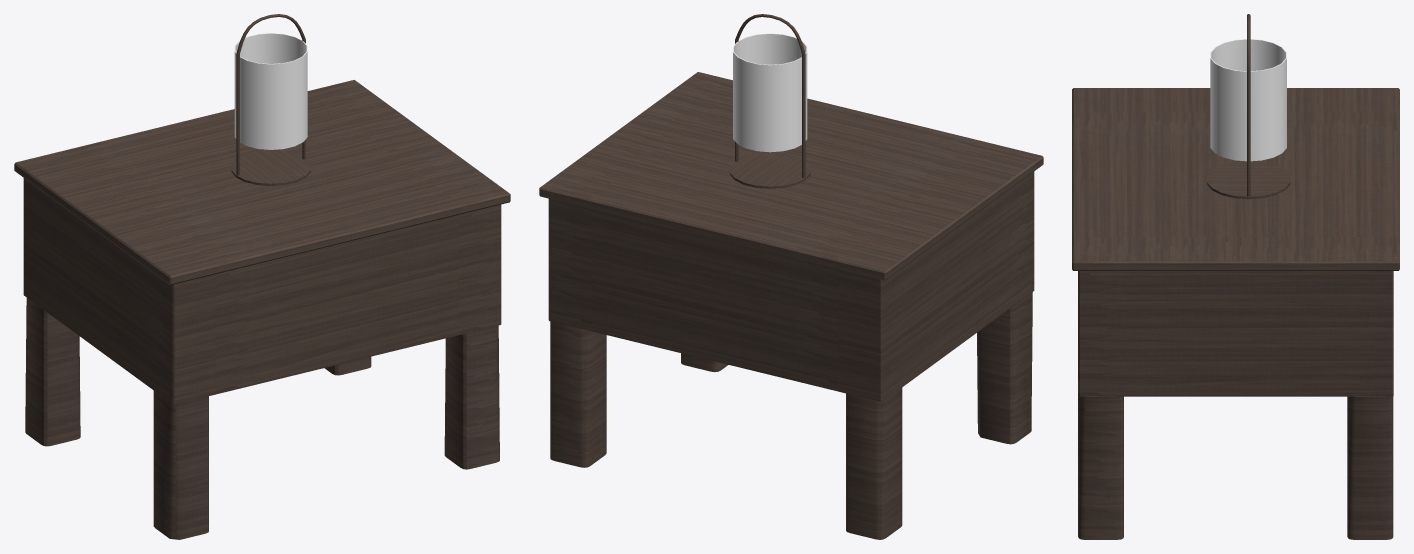
Rendered from Bedside table.FBX.
3 views of the same model, side by side, from view 1: azimuth 30°, elevation 25°; view 2: azimuth 150°, elevation 25°; view 3: azimuth 270°, elevation 25° (orthographic). The views are drawn at different scales.
Parts seen in each view (by area): view 1: 床头柜, 灯罩, 灯架; view 2: 床头柜, 灯罩, 灯架; view 3: 床头柜, 灯罩, 灯架.
Boxes of the visible parts, box(x1,y1,x2,y2) form: 床头柜: box(14, 80, 510, 539); 灯罩: box(234, 33, 307, 149); 灯架: box(231, 14, 310, 185); 床头柜: box(539, 72, 1043, 539); 灯罩: box(733, 33, 807, 152); 灯架: box(730, 14, 810, 188); 床头柜: box(1072, 88, 1399, 539); 灯罩: box(1210, 39, 1286, 161); 灯架: box(1207, 14, 1290, 199).
Bounding box in the file's own units: 53.56 × 63.45 × 42.5.
3 materials, 2 textured.
